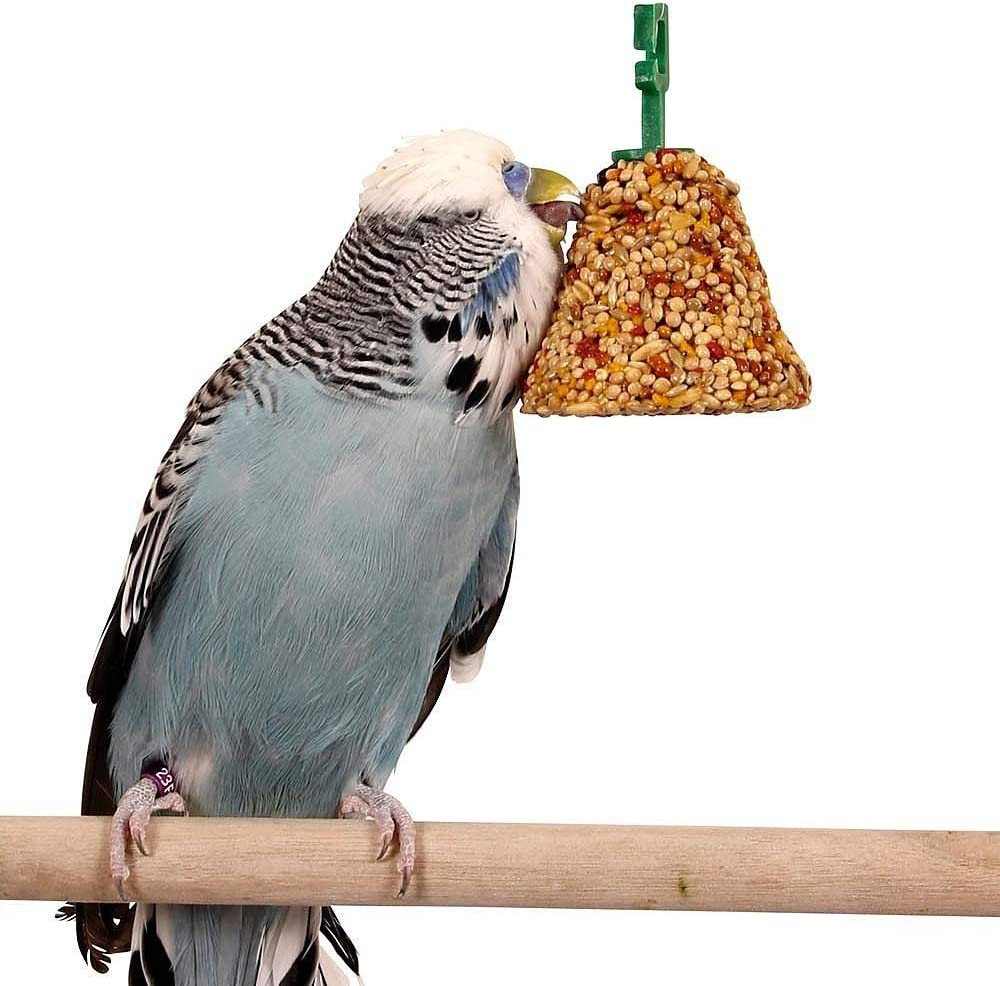budgie: (67, 123, 588, 981)
